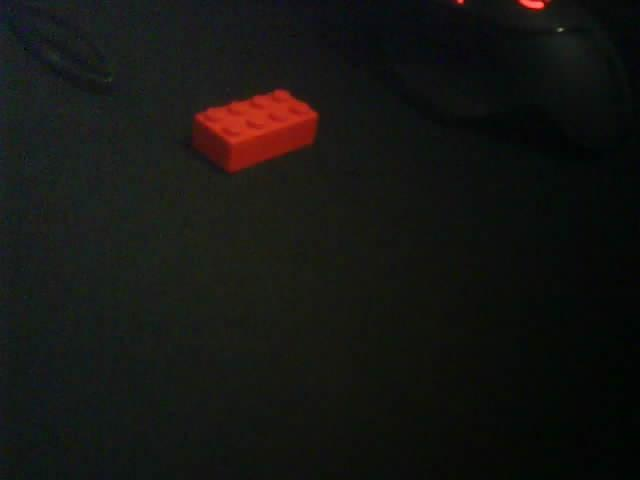lego: (189, 87, 320, 175)
